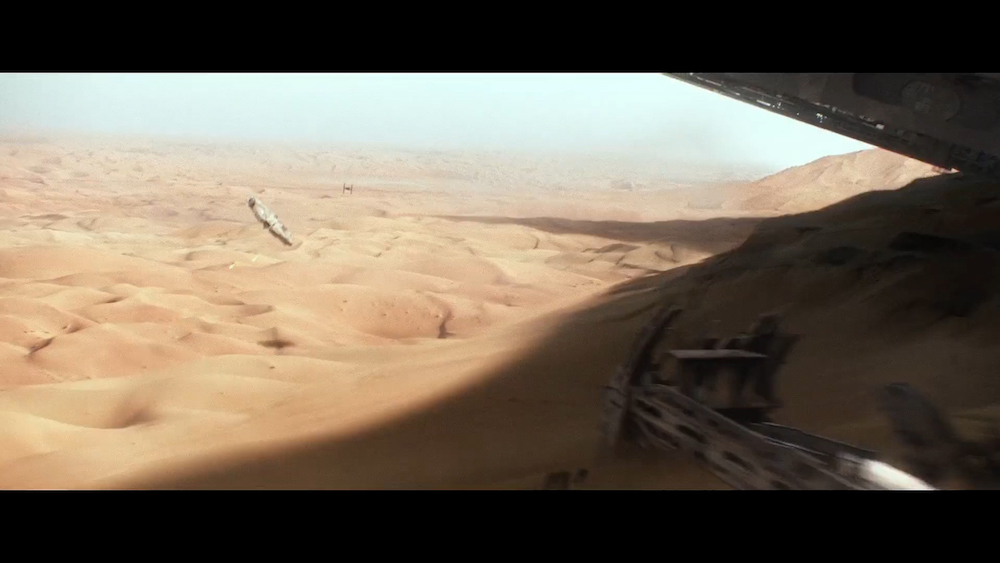Millennium Falcon: (248, 197, 295, 249)
Tie Fighter: (343, 183, 354, 195)
